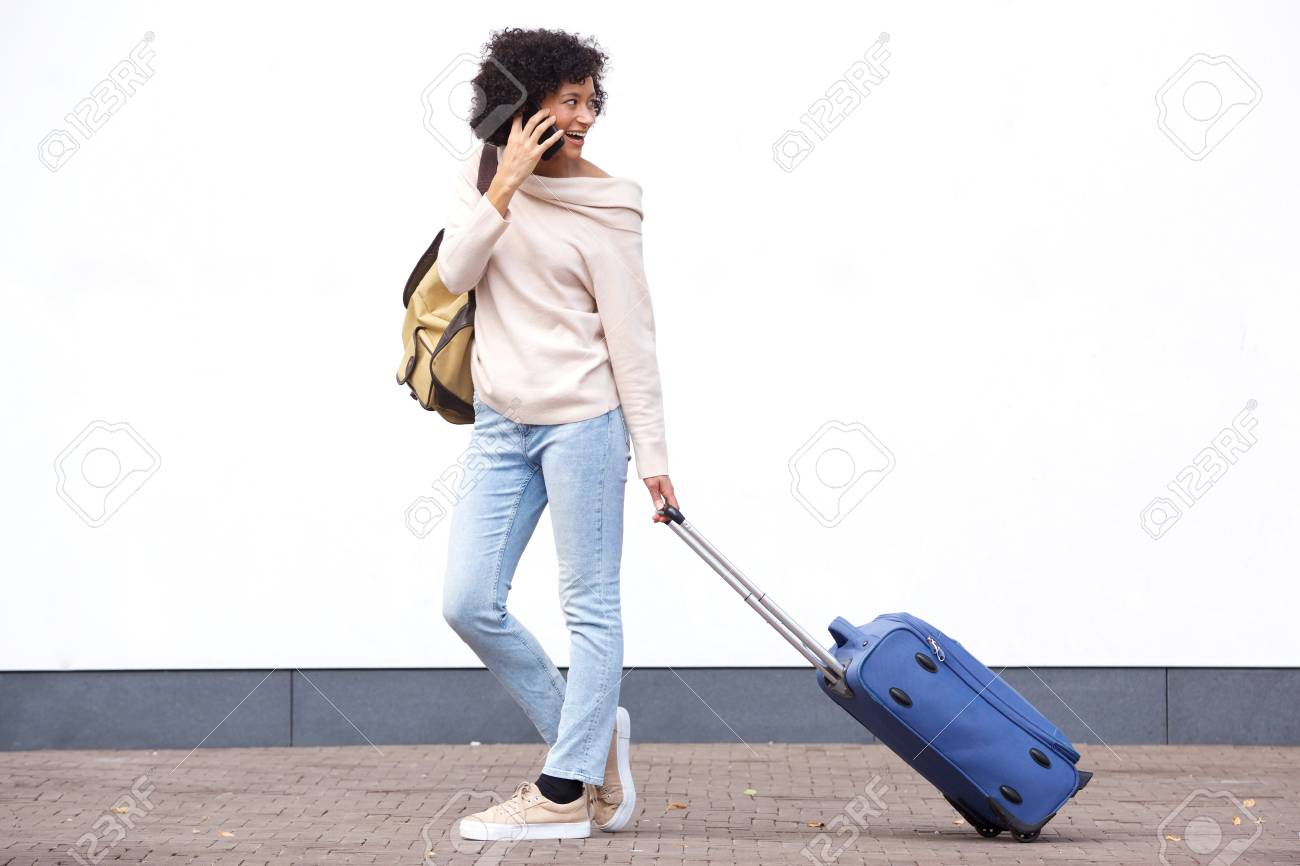backpack: (392, 217, 514, 427)
luggage: (651, 490, 1097, 852)
people: (439, 19, 686, 851)
